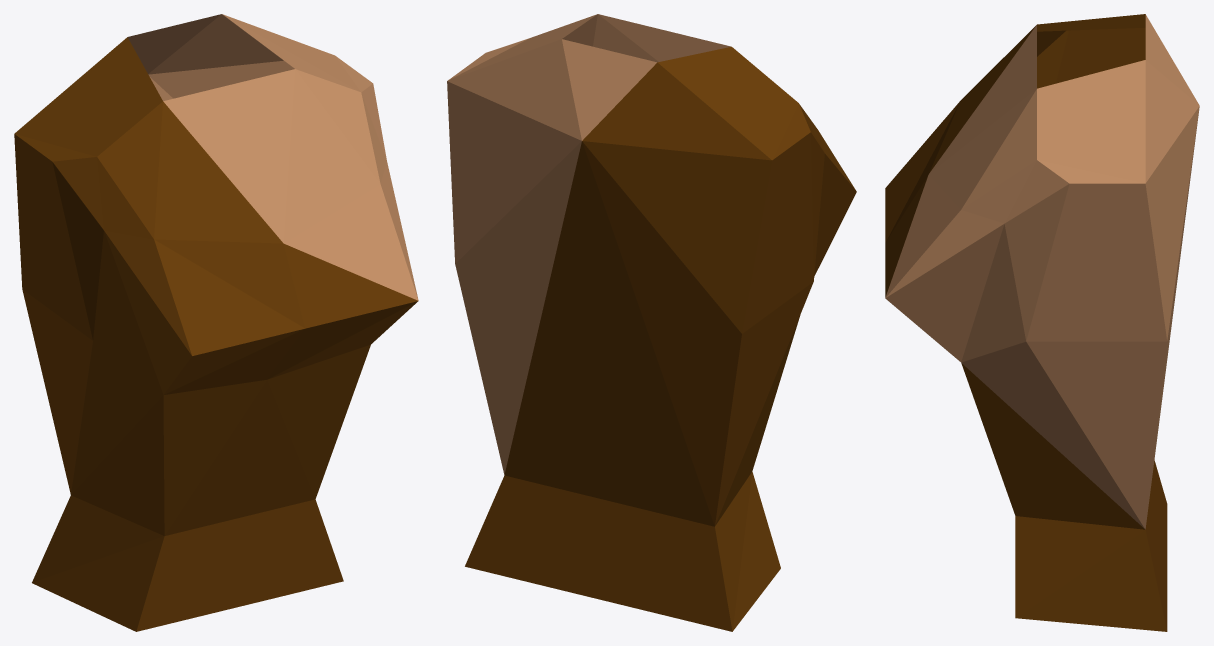
File: model_473_npc.obj
The picture shows the model from 3 angles, left to right: view 1: azimuth 30°, elevation 25°; view 2: azimuth 150°, elevation 25°; view 3: azimuth 270°, elevation 25°; orthographic projection.
Visible parts, largest first — view 1: 473; view 2: 473; view 3: 473.
Boxes of the visible parts, x1,y1,x2,y2 form: 473: [14, 14, 418, 631]; 473: [447, 14, 856, 631]; 473: [885, 14, 1199, 631].
Size of the model in its own units: 34 by 54 by 29.
